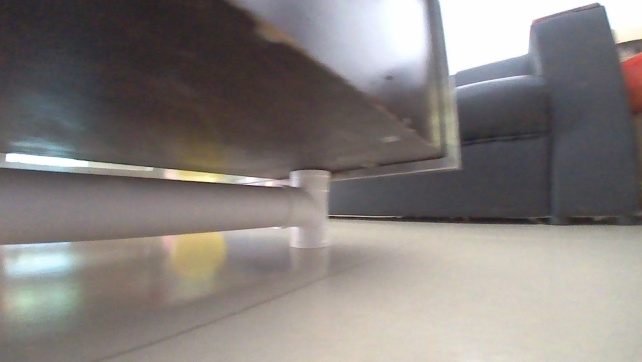sofa1: (323, 0, 641, 228)
